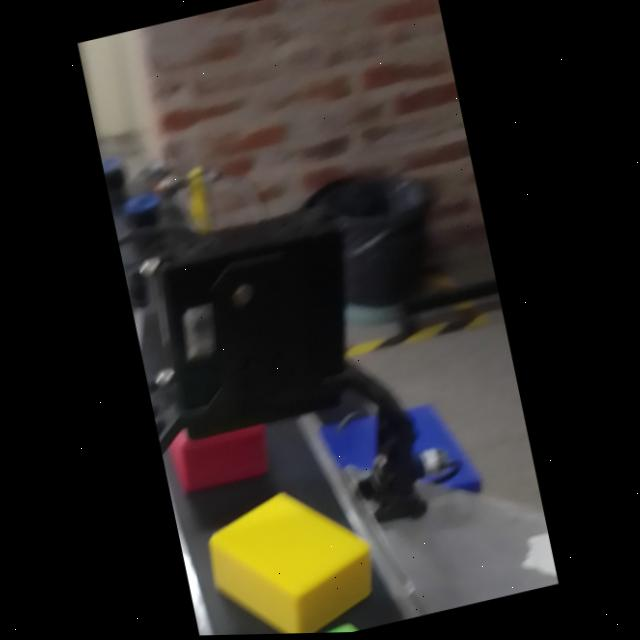greenBox: (221, 586, 438, 636)
redBox: (157, 403, 290, 510)
yellowBox: (182, 463, 408, 637)
